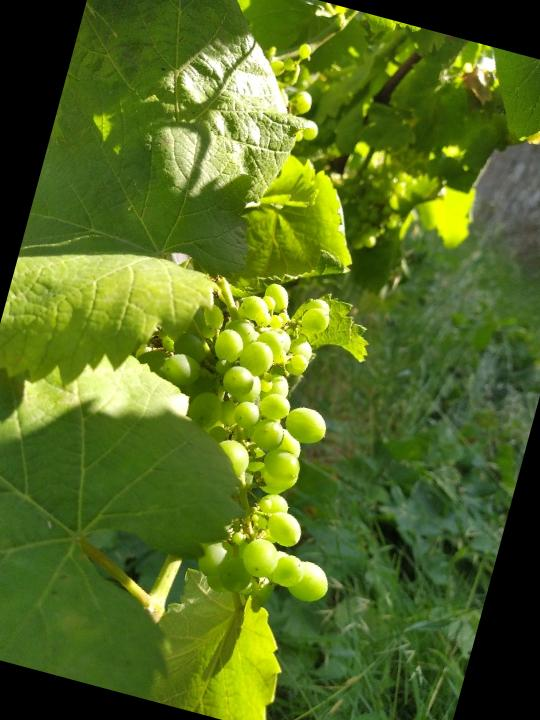grape: (80, 249, 407, 620)
